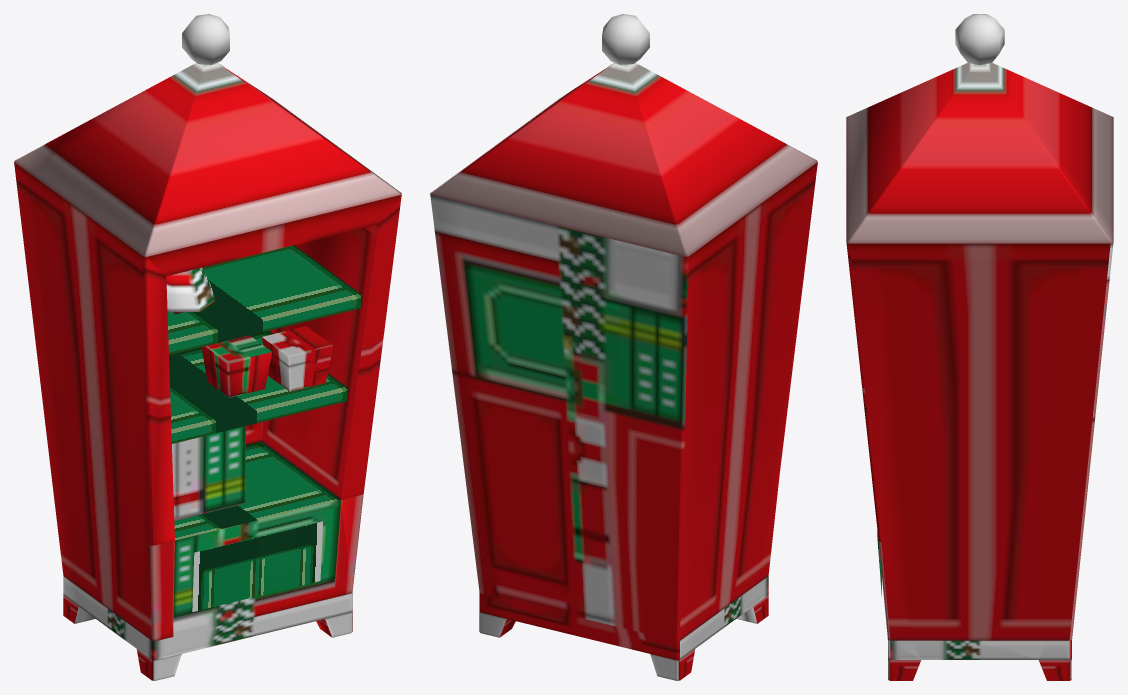
Rendered from int_xms_bookshelf.dae.
3 views of the same model, side by side, from view 1: azimuth 30°, elevation 25°; view 2: azimuth 150°, elevation 25°; view 3: azimuth 270°, elevation 25° (orthographic).
Visible parts, largest first — view 1: int_xms_bookshelf; view 2: int_xms_bookshelf; view 3: int_xms_bookshelf.
Boxes of the visible parts, x1,y1,x2,y2 form: int_xms_bookshelf: (14,14,401,680); int_xms_bookshelf: (430,14,817,680); int_xms_bookshelf: (846,14,1113,680).
Size of the model in its own units: 28.9 by 64.89 by 25.51.
Materials: 2 (2 with a texture image).
